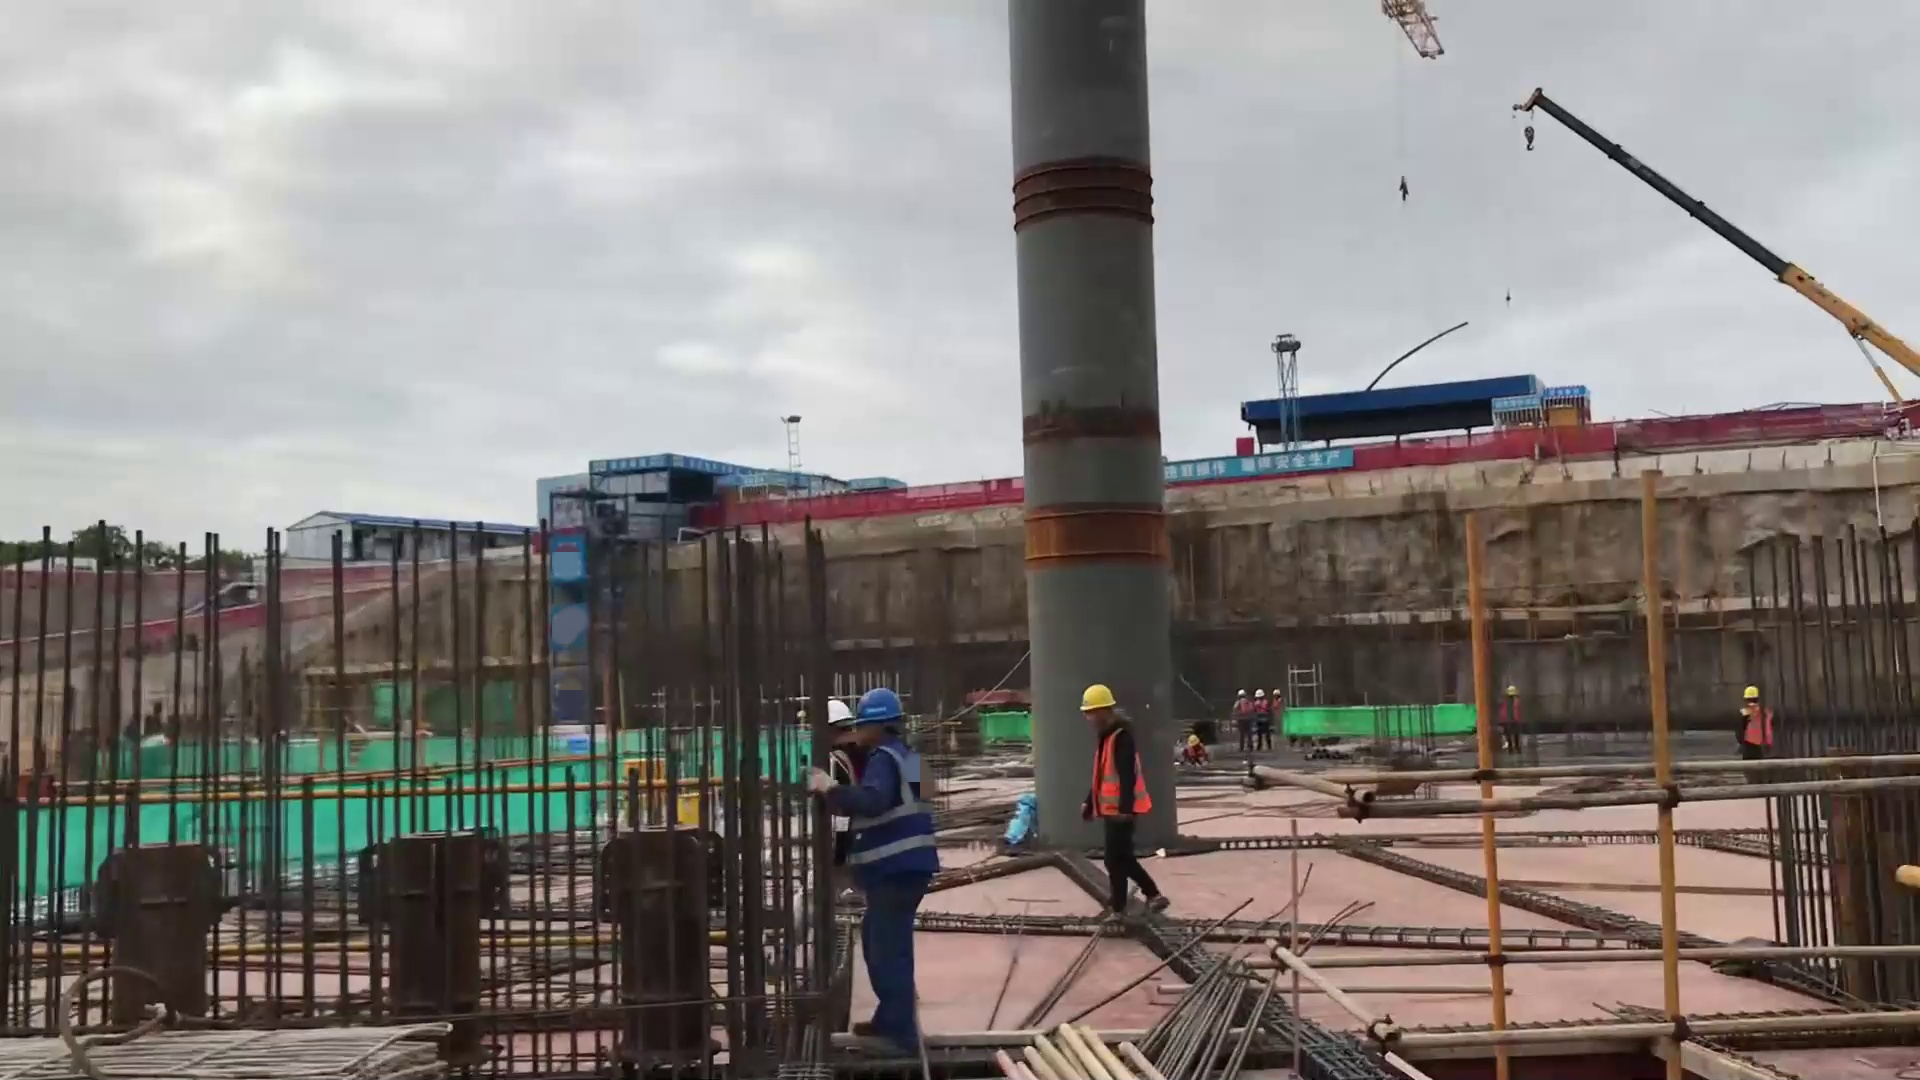helmet: (853, 686, 908, 723), (1081, 683, 1118, 711), (828, 695, 854, 724), (1743, 686, 1759, 699), (1189, 735, 1200, 746), (1506, 686, 1517, 696), (1255, 688, 1265, 698), (1238, 690, 1248, 697), (1274, 689, 1280, 695)
person: (809, 686, 940, 1062), (1077, 681, 1173, 925), (830, 694, 855, 869), (1735, 686, 1772, 759), (1501, 686, 1523, 755), (1231, 689, 1255, 752), (1252, 688, 1273, 750), (1179, 734, 1210, 767), (1271, 689, 1285, 719)
vest: (852, 744, 937, 876), (1091, 724, 1152, 819), (830, 749, 853, 843), (1742, 706, 1772, 746), (1501, 700, 1521, 724), (1237, 699, 1251, 720), (1255, 699, 1269, 721), (1186, 746, 1205, 759)
